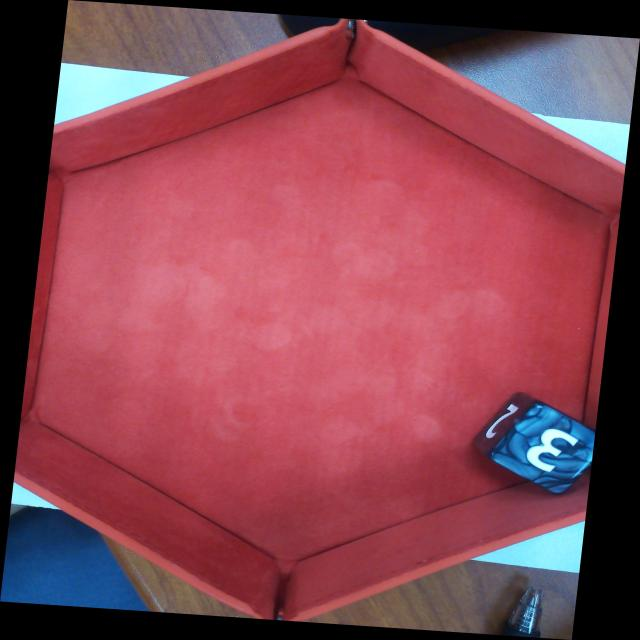dice: (483, 400, 616, 501)
